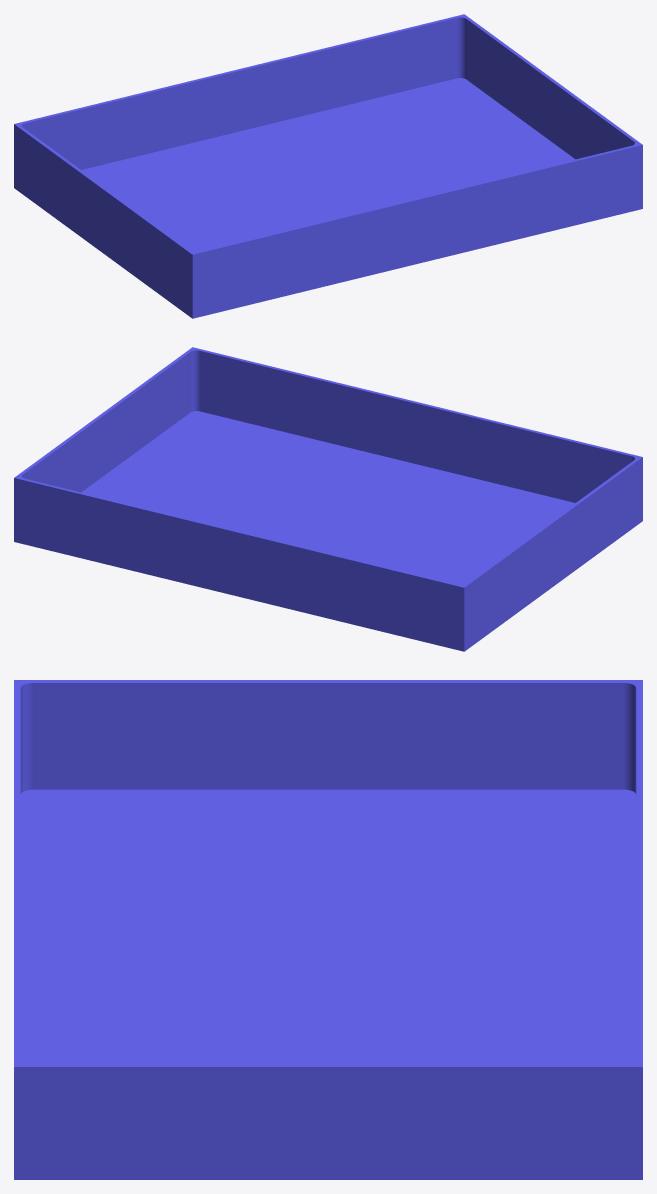
The model's file is original-9.obj.
3 renders of one model, top to bottom at view 1: azimuth 30°, elevation 25°; view 2: azimuth 150°, elevation 25°; view 3: azimuth 270°, elevation 25°, orthographic. The views are drawn at different scales.
Parts seen in each view (by area): view 1: Group8/mesh14/mesh14-geometry#mesh14-geometry; view 2: Group8/mesh14/mesh14-geometry#mesh14-geometry; view 3: Group8/mesh14/mesh14-geometry#mesh14-geometry.
Part boxes in pixels (<box>): Group8/mesh14/mesh14-geometry#mesh14-geometry: <box>14,14,642,318</box>; Group8/mesh14/mesh14-geometry#mesh14-geometry: <box>14,347,642,651</box>; Group8/mesh14/mesh14-geometry#mesh14-geometry: <box>14,680,642,1179</box>.
Size of the model in its own units: 1.11 by 0.1502 by 0.7595.
